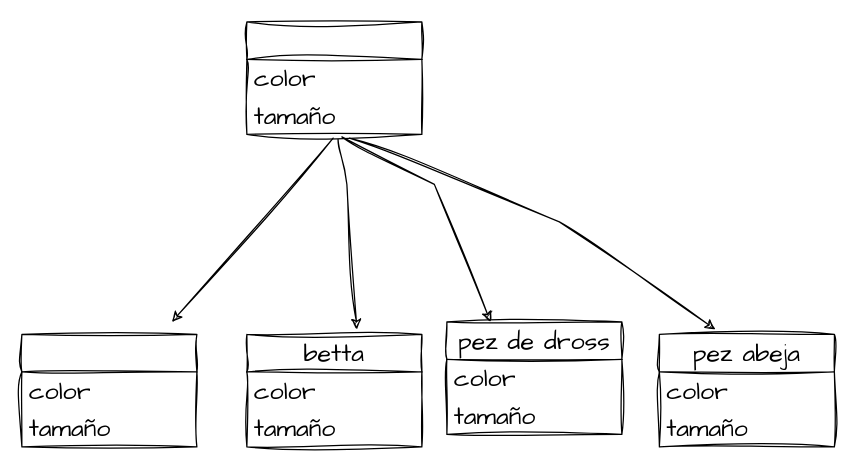
Some shapes in this 856 by 469 pixel diagram are drawn without their labels. Here are the shapes that lost their labels. From the top down, the box of each, then its label:
(246, 21, 422, 134): animales acuaticos
(21, 333, 197, 447): pez payaso
